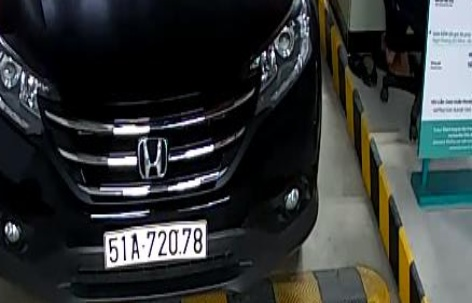plate: (101, 222, 209, 268)
